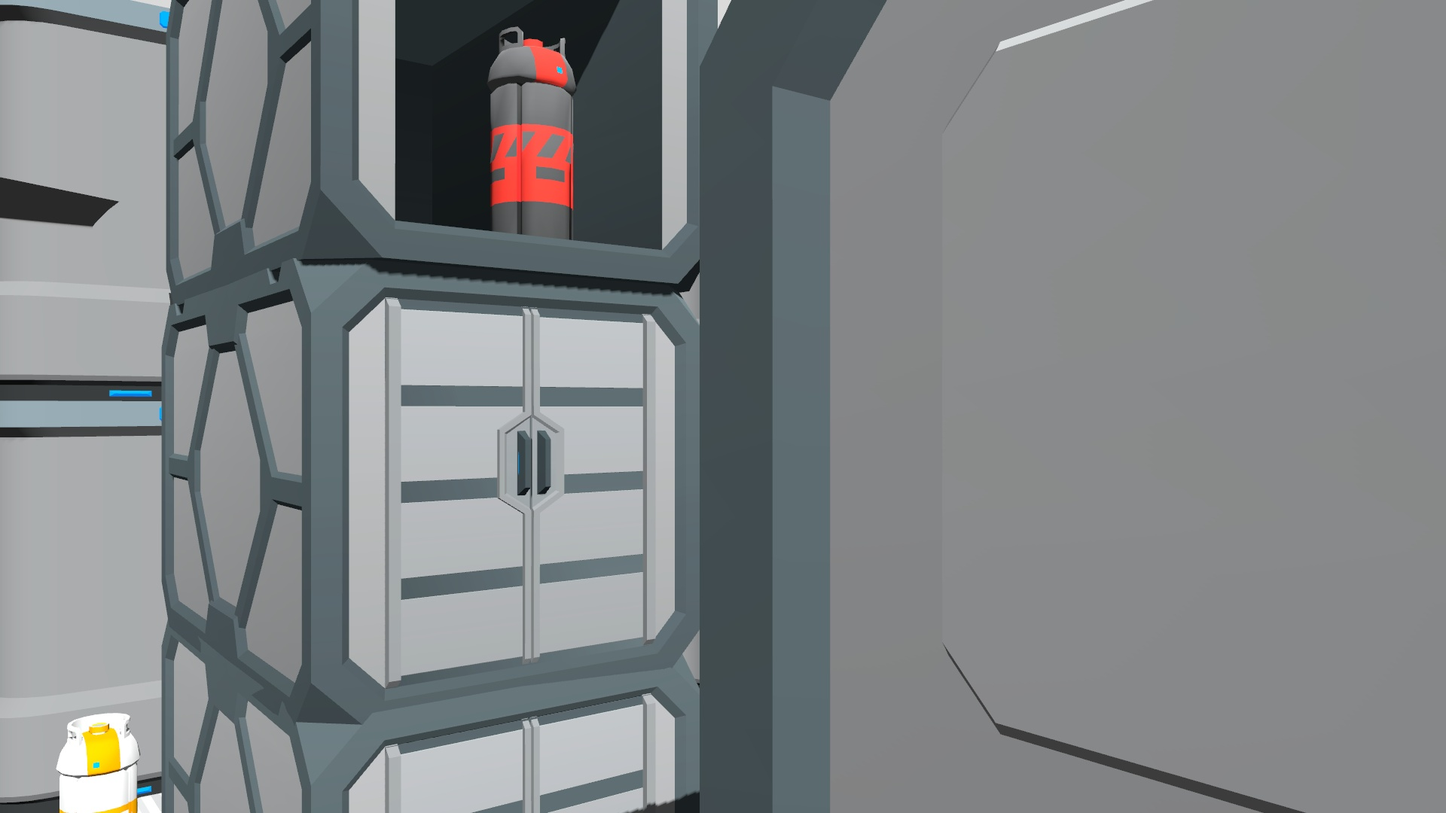red_barrel: (487, 21, 586, 249)
yellow_barrel: (56, 704, 144, 813)
